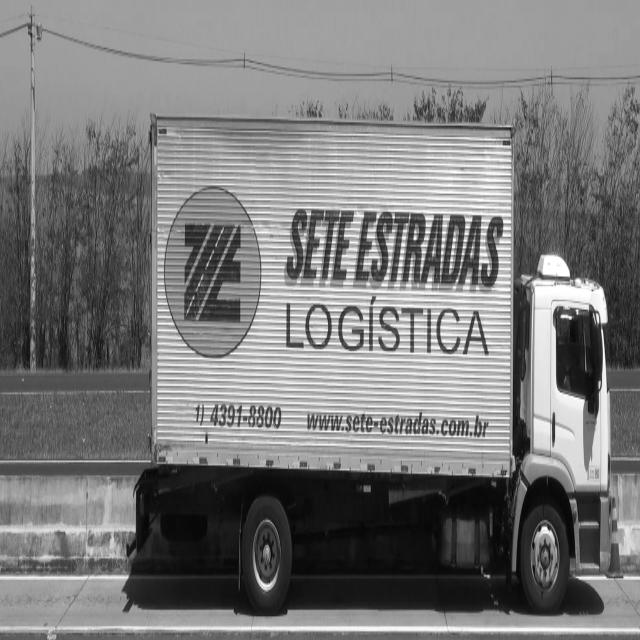Pole: (29, 6, 36, 373)
Truck: (129, 118, 611, 616)
